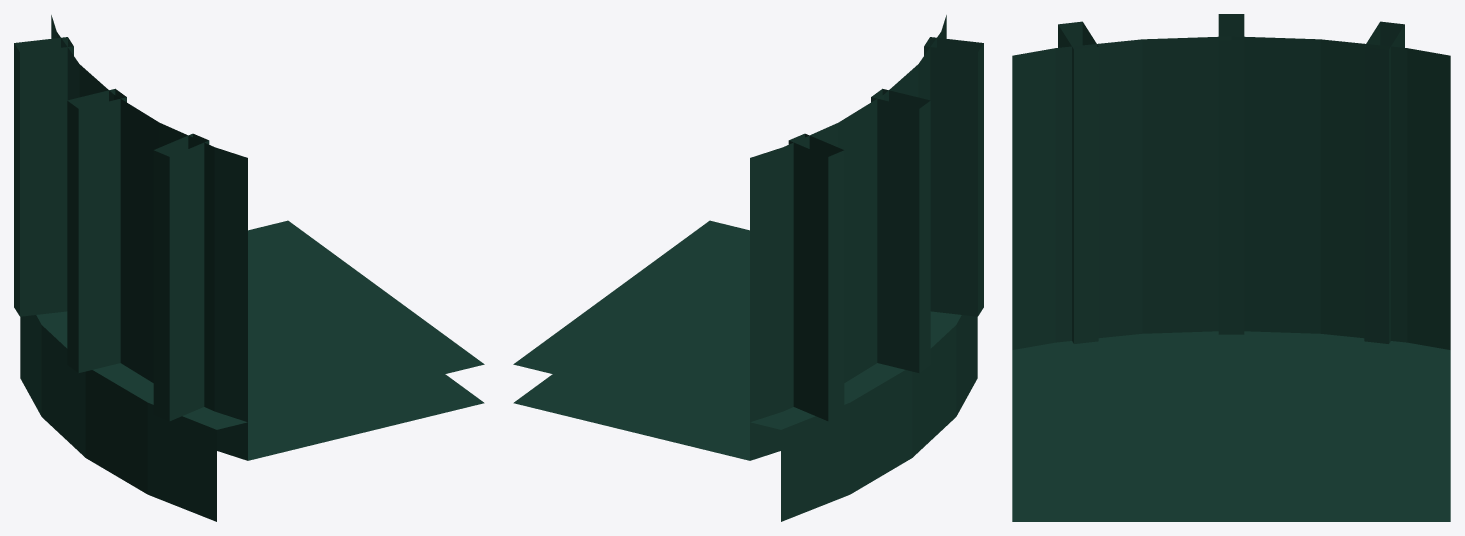
File: cell_186.obj
The picture shows the model from 3 angles, left to right: view 1: azimuth 30°, elevation 25°; view 2: azimuth 150°, elevation 25°; view 3: azimuth 270°, elevation 25°; orthographic projection. The views are drawn at different scales.
Bounding box in the file's own units: 0.9208 × 1 × 1.
